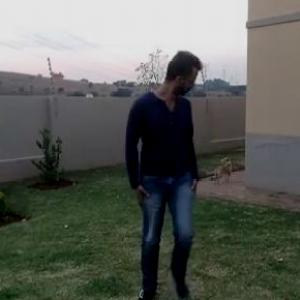follow: (122, 45, 209, 299)
